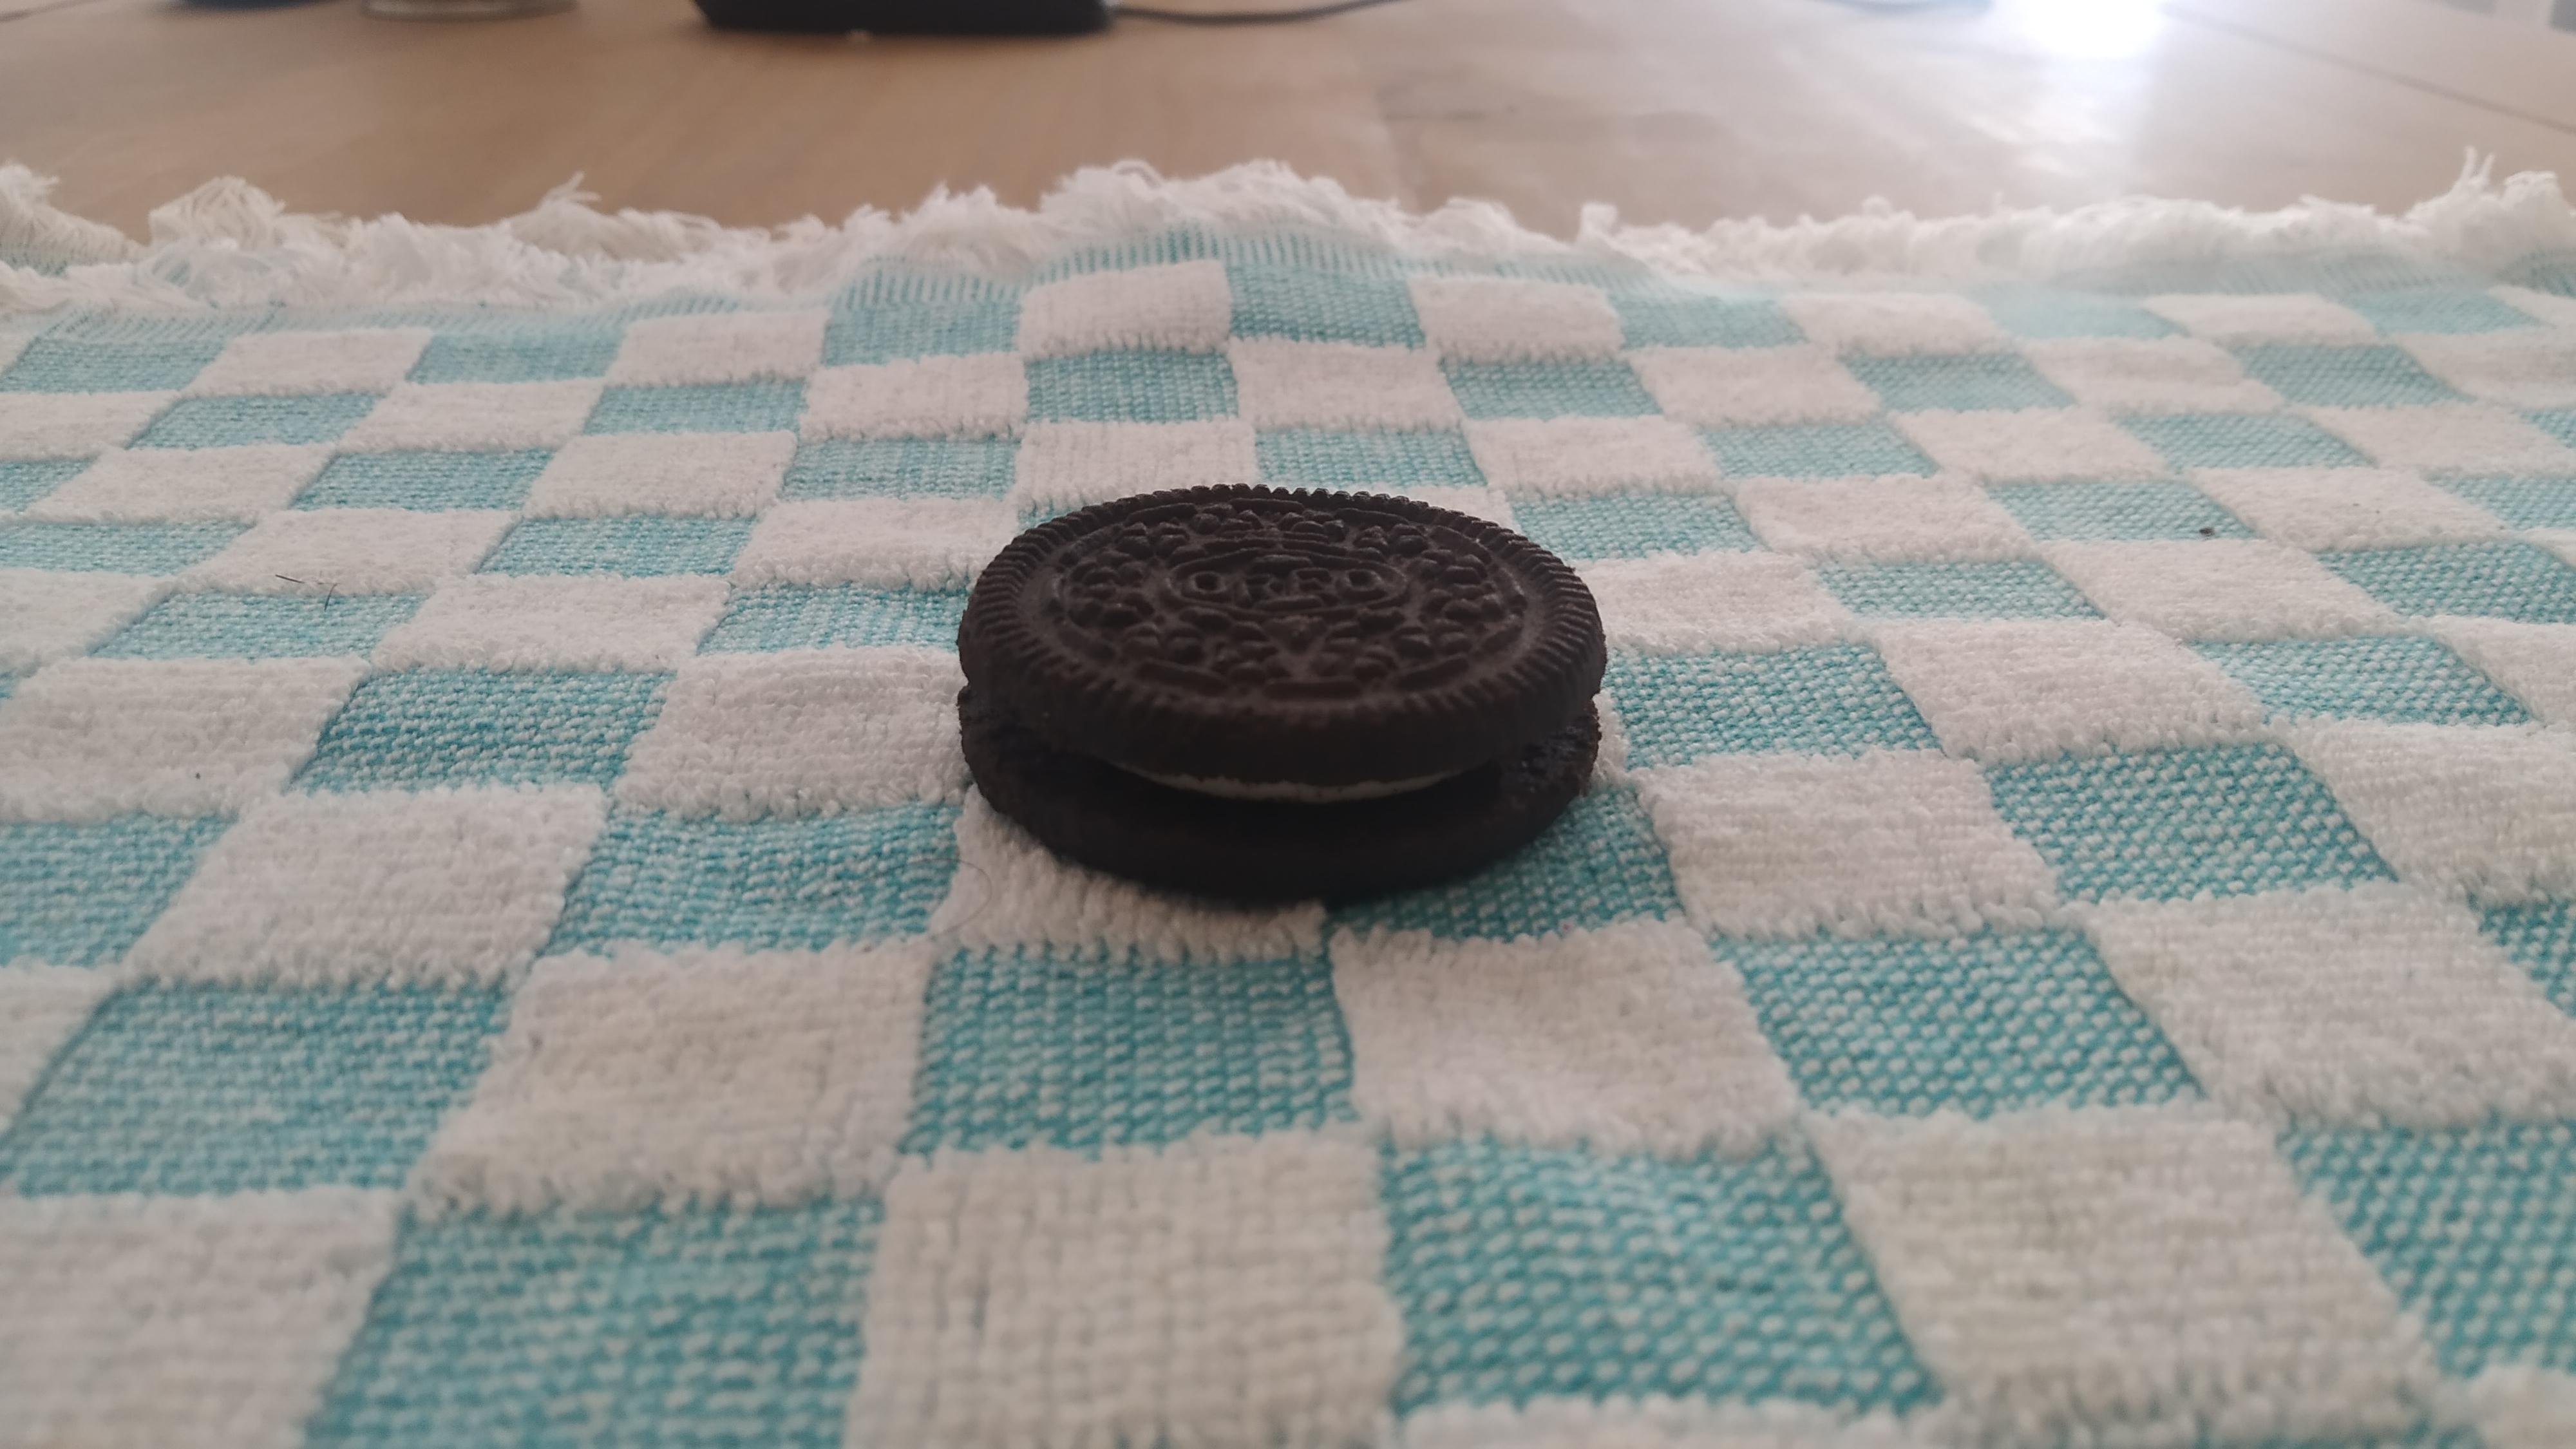oreo: (955, 481, 1608, 895)
